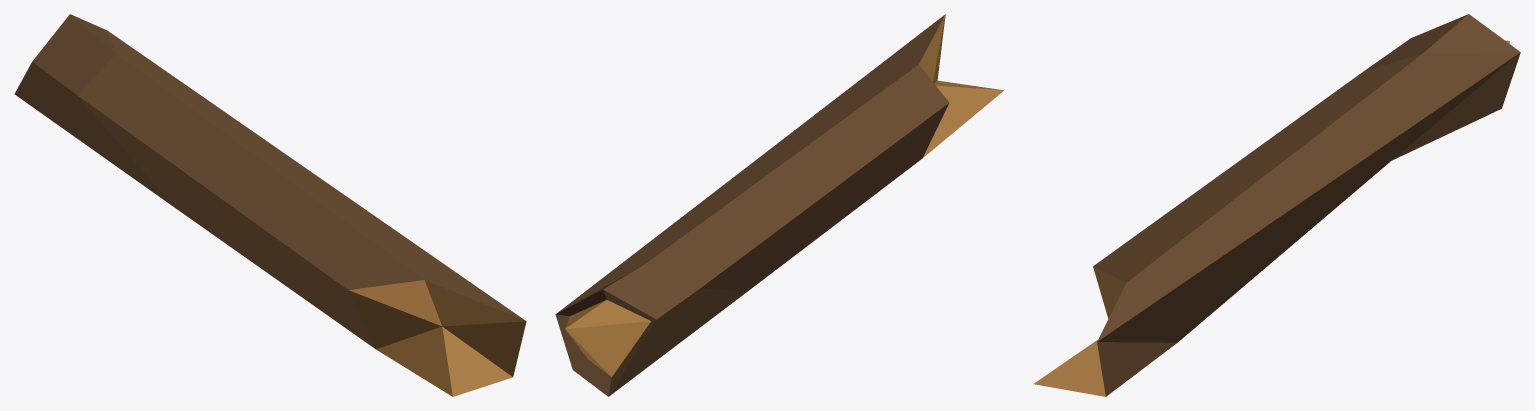
The model's file is tree-dead-log-small-a.glb.
3 renders of one model, left to right at view 1: azimuth 30°, elevation 25°; view 2: azimuth 150°, elevation 25°; view 3: azimuth 330°, elevation 25°, orthographic. The views are drawn at different scales.
Parts seen in each view (by area): view 1: tree-dead-log-small-a; view 2: tree-dead-log-small-a; view 3: tree-dead-log-small-a.
Boxes of the visible parts, x1,y1,x2,y2 form: tree-dead-log-small-a: (14,14,526,396); tree-dead-log-small-a: (555,14,1003,396); tree-dead-log-small-a: (1033,14,1520,396).
Size of the model in its own units: 0.3658 by 0.3418 by 2.97.
